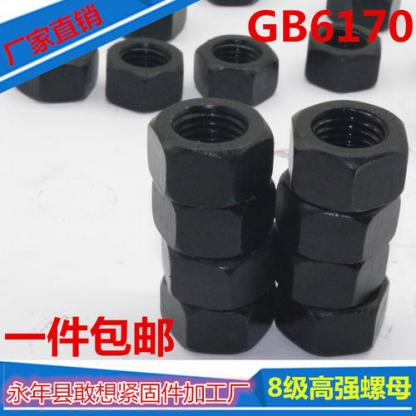FOD: (288, 94, 408, 212), (141, 98, 273, 199), (98, 34, 188, 110), (195, 33, 280, 103)
